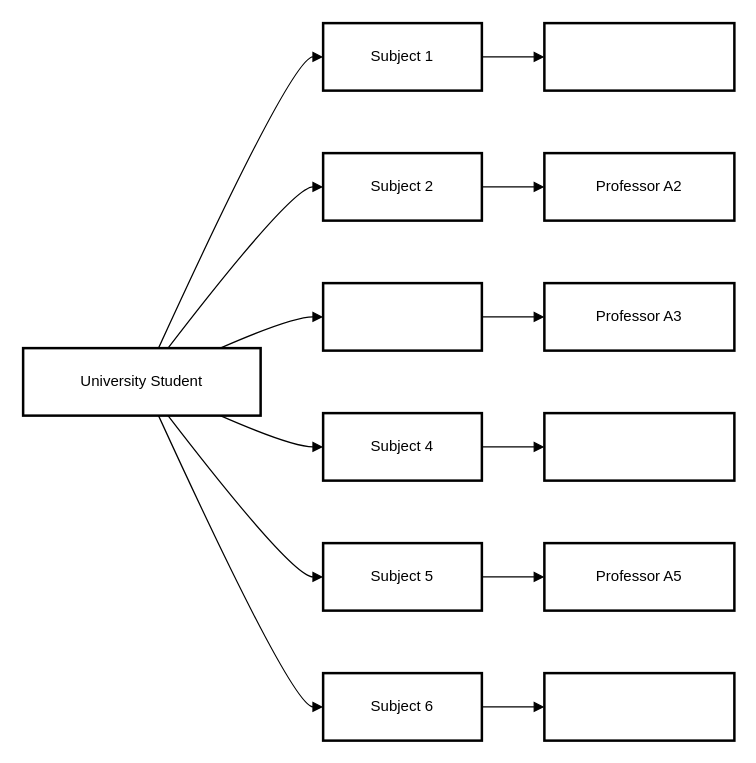
The diagram is 756 pixels wide and 763 high, and some of its shapes have lost their labels. Each missing label, with the box of its shape:
Professor A1: (542, 21, 735, 91)
Professor A4: (542, 411, 735, 481)
Professor A6: (542, 671, 735, 741)
Subject 3: (321, 281, 482, 351)
